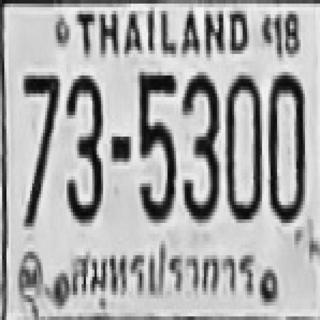N00: (224, 72, 261, 219), (268, 72, 304, 219)
N03: (64, 72, 101, 219), (180, 72, 217, 219)
N05: (138, 68, 174, 219)
N07: (22, 72, 58, 223), (22, 72, 58, 180)
P04: (64, 234, 265, 307)
